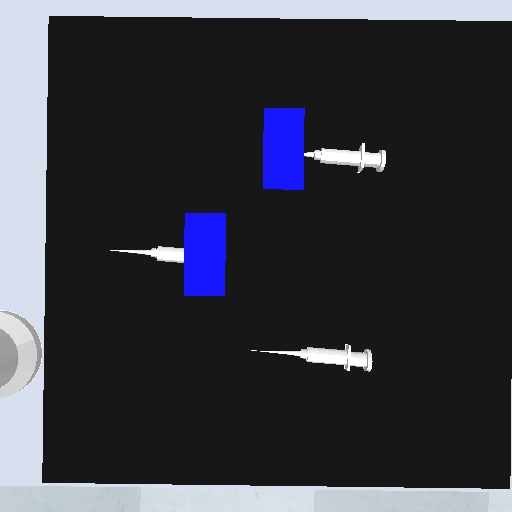jeringuilla: (248, 341, 380, 376), (303, 138, 389, 177), (108, 236, 184, 271)
